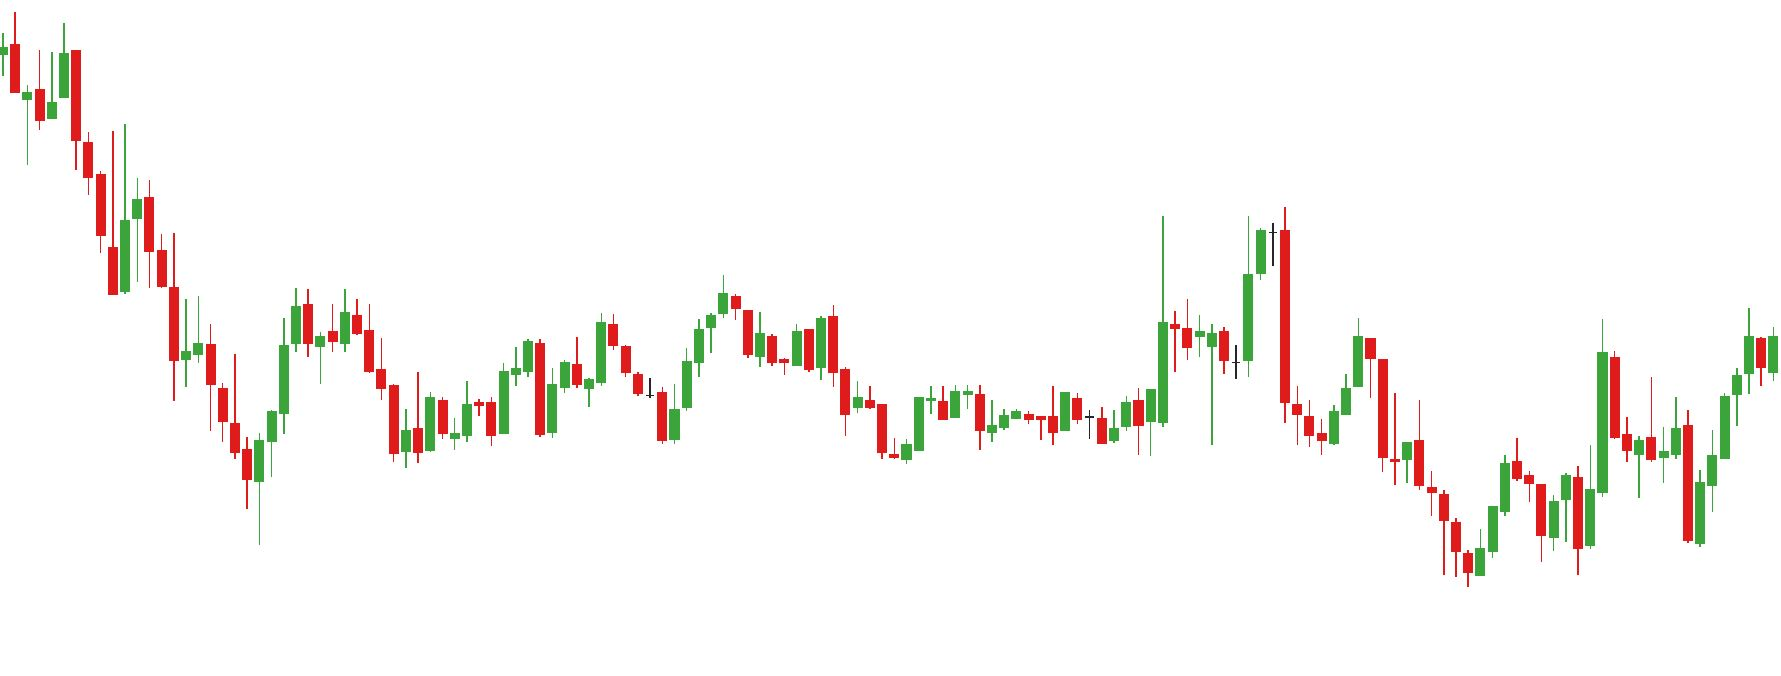buy: (533, 372, 679, 447)
sell: (179, 287, 313, 401)
